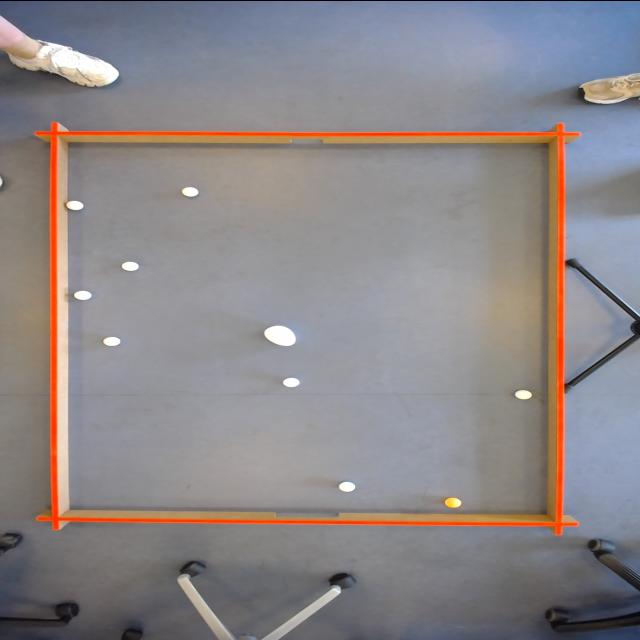egg: (262, 324, 300, 346)
orange_ball: (444, 496, 466, 508)
white_ball: (118, 258, 142, 272), (70, 288, 94, 302), (336, 478, 359, 492), (280, 376, 303, 388), (100, 334, 122, 346), (180, 184, 200, 197), (514, 388, 534, 400), (65, 199, 85, 210)
